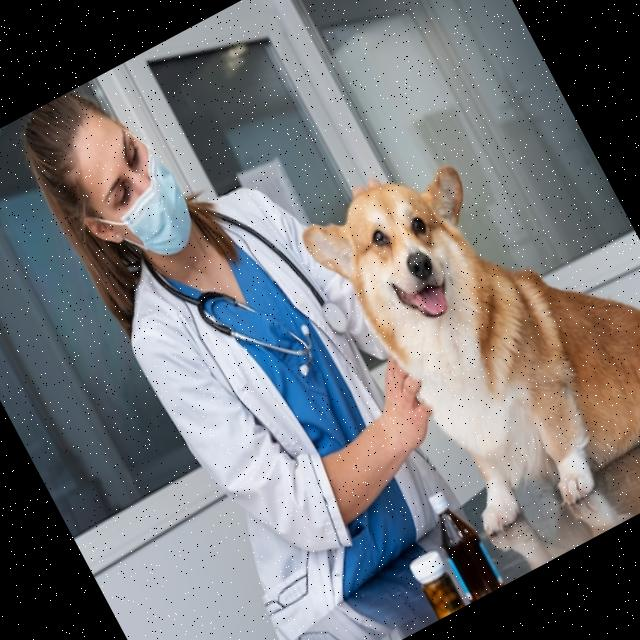Dog: (293, 90, 640, 557)
Person: (6, 10, 497, 640)
